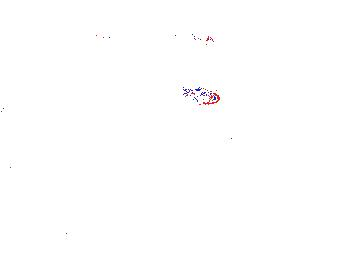X-ray fish: (222, 125, 260, 154)
red belly glassfish: (179, 83, 220, 106), (171, 31, 215, 48)
redtail glassfish: (49, 14, 115, 46)
